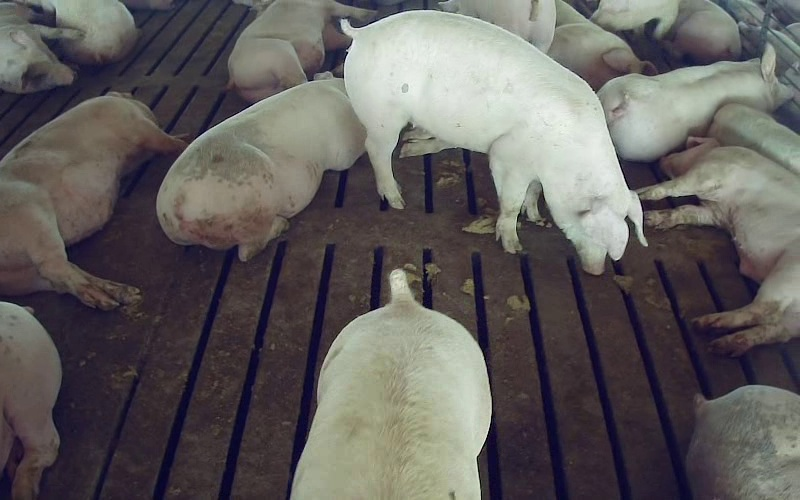pig: (292, 270, 490, 499), (0, 92, 185, 309), (157, 72, 365, 260), (598, 45, 791, 161), (228, 0, 376, 102), (686, 385, 799, 499), (548, 0, 656, 90), (24, 0, 137, 64), (439, 0, 555, 52)
